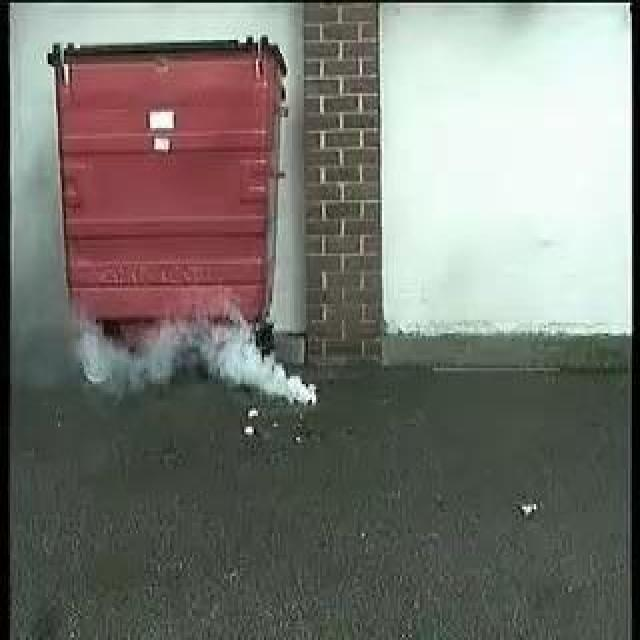Smoke: (87, 307, 317, 408)
